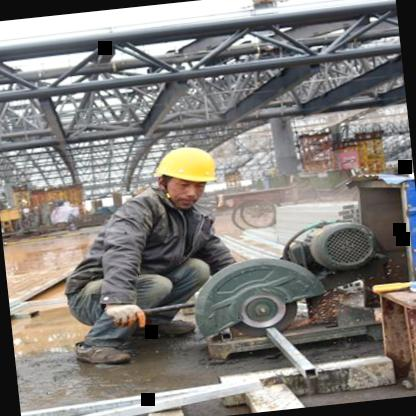helmet: (148, 140, 226, 209)
